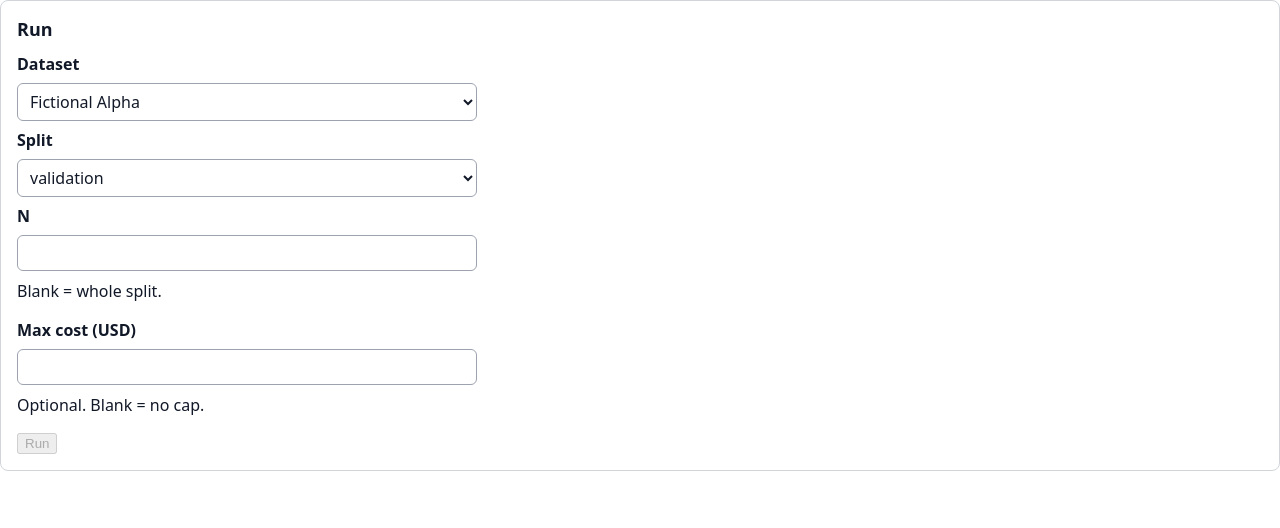
Test: RunPanel form › rejects cap=0
Type "0" into the field labelled "Max cost (USD)". click: (247, 367)
box: [17, 349, 477, 385]
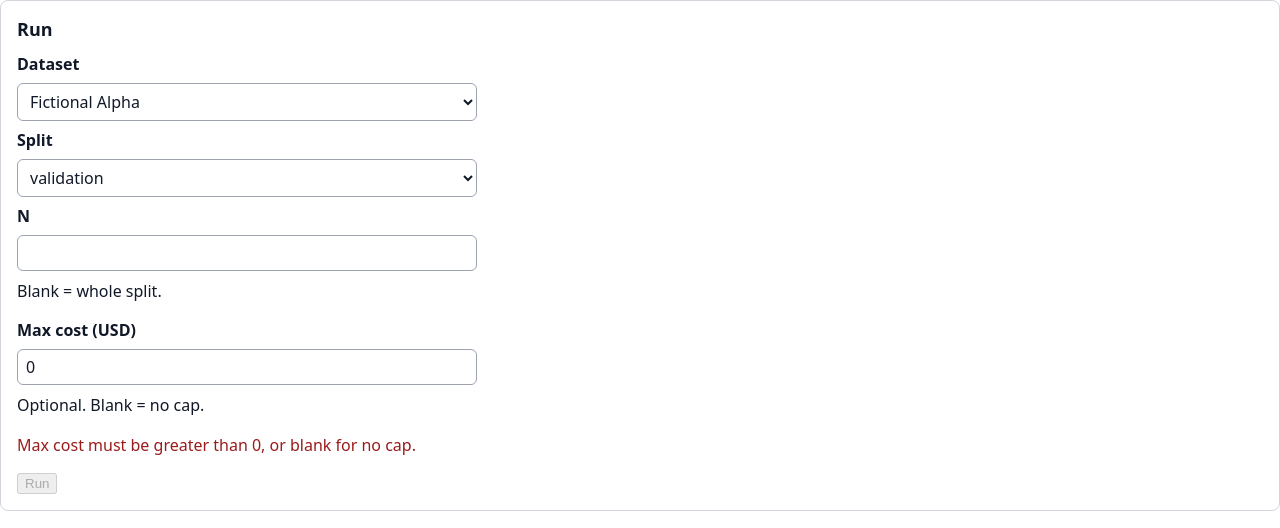
Check: the button "Run" is disabled, box [17, 473, 58, 494]
Check: the text "Max cost must be greater than 0, or blank for no cap." is shown, box [17, 433, 477, 457]
